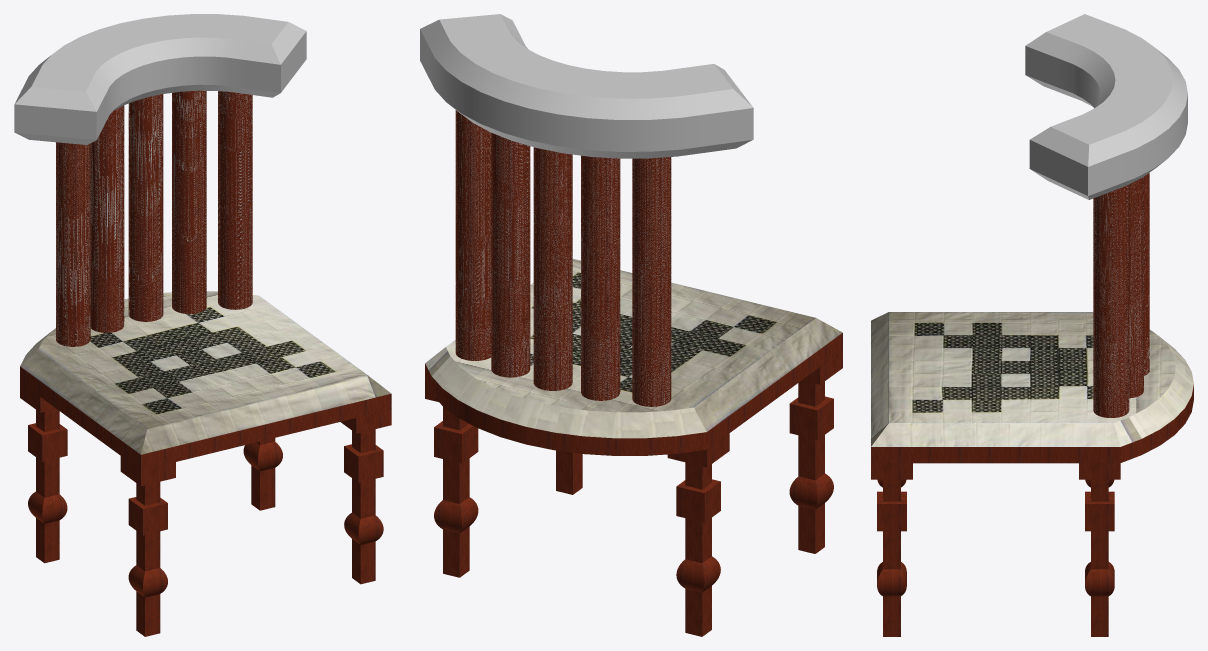
3 views of the same model, side by side, from view 1: azimuth 30°, elevation 25°; view 2: azimuth 150°, elevation 25°; view 3: azimuth 270°, elevation 25° (orthographic). The views are drawn at different scales.
Parts seen in each view (by area): view 1: group_0 (×4), Back (×5), group_1, Leg (×9); view 2: Back (×5), group_0 (×4), group_1, Leg (×11); view 3: group_0 (×5), group_1, Back (×3), Leg (×6).
Boxes of the visible parts, bbox=[...] form: group_0 (×4): bbox=[20, 291, 391, 470]; Back (×5): bbox=[56, 90, 252, 346]; group_1: bbox=[14, 14, 306, 144]; Leg (×9): bbox=[28, 409, 391, 636]; Back (×5): bbox=[455, 110, 671, 406]; group_0 (×4): bbox=[425, 258, 842, 455]; group_1: bbox=[420, 14, 753, 158]; Leg (×11): bbox=[434, 350, 842, 636]; group_0 (×5): bbox=[871, 312, 1193, 463]; group_1: bbox=[1025, 14, 1187, 199]; Back (×3): bbox=[1093, 173, 1149, 417]; Leg (×6): bbox=[871, 463, 1120, 636].
Size of the model in its own units: 23.12 by 21.26 by 36.22.
